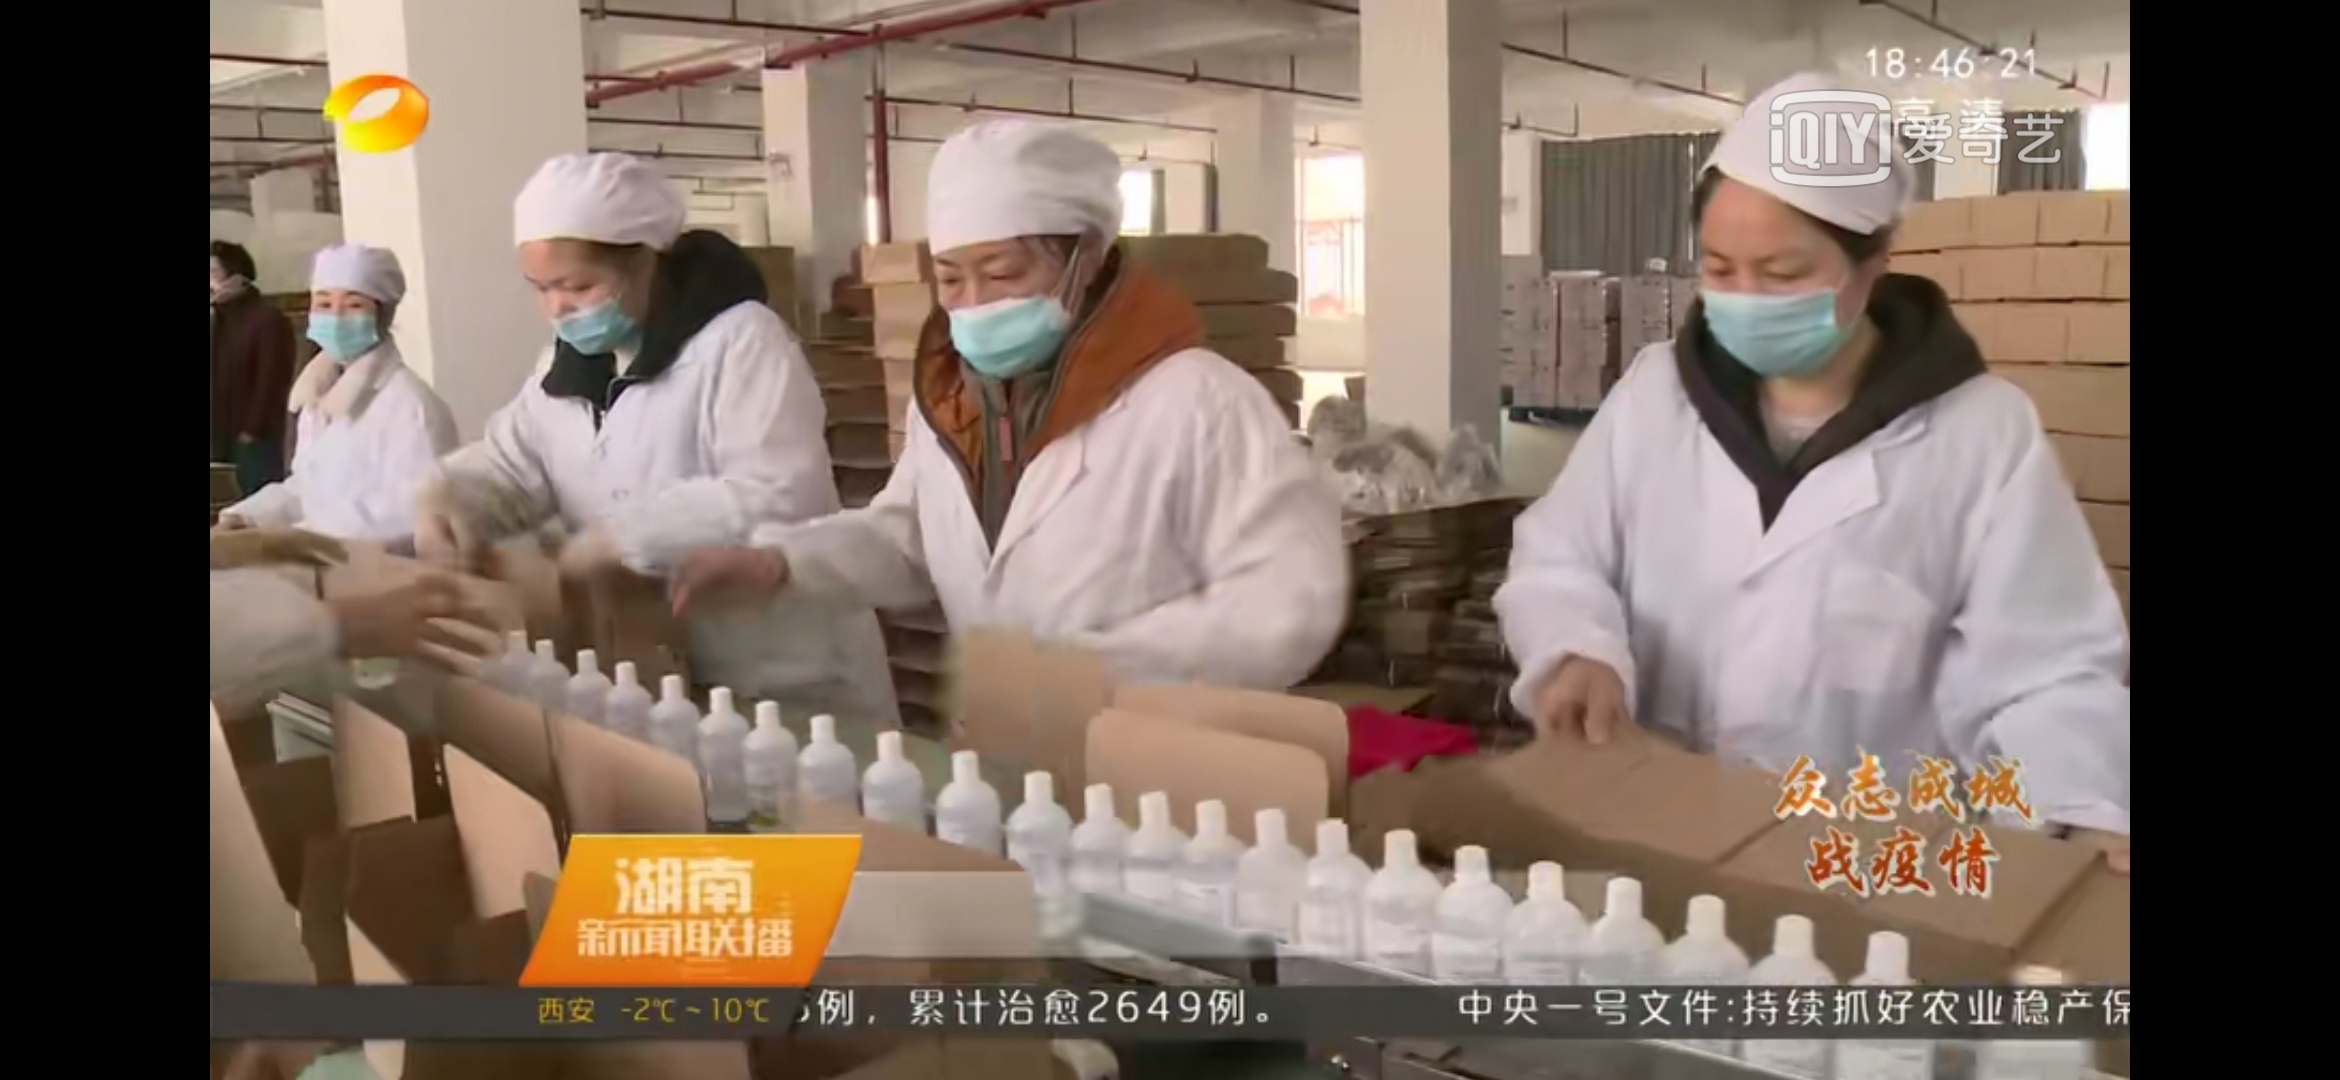correctlyWear: (1695, 204, 1892, 382), (925, 239, 1107, 379), (306, 286, 390, 371), (210, 254, 254, 306)
incorrectlyWear: (525, 236, 652, 368)
